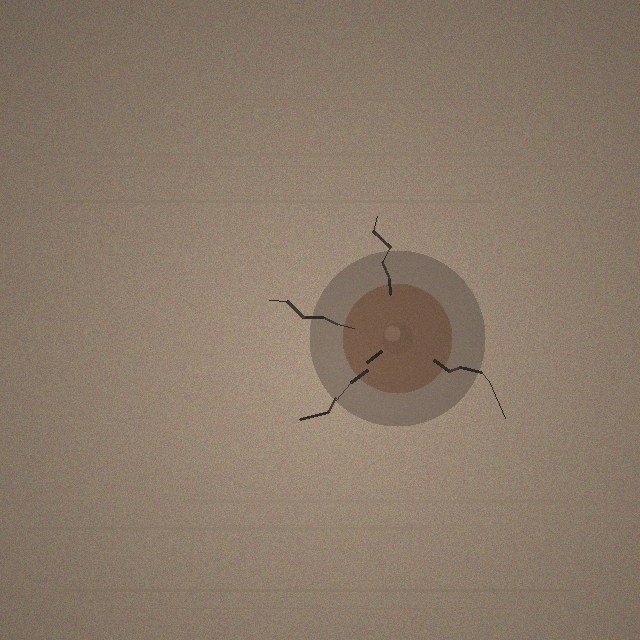crack: (309, 250, 485, 426)
